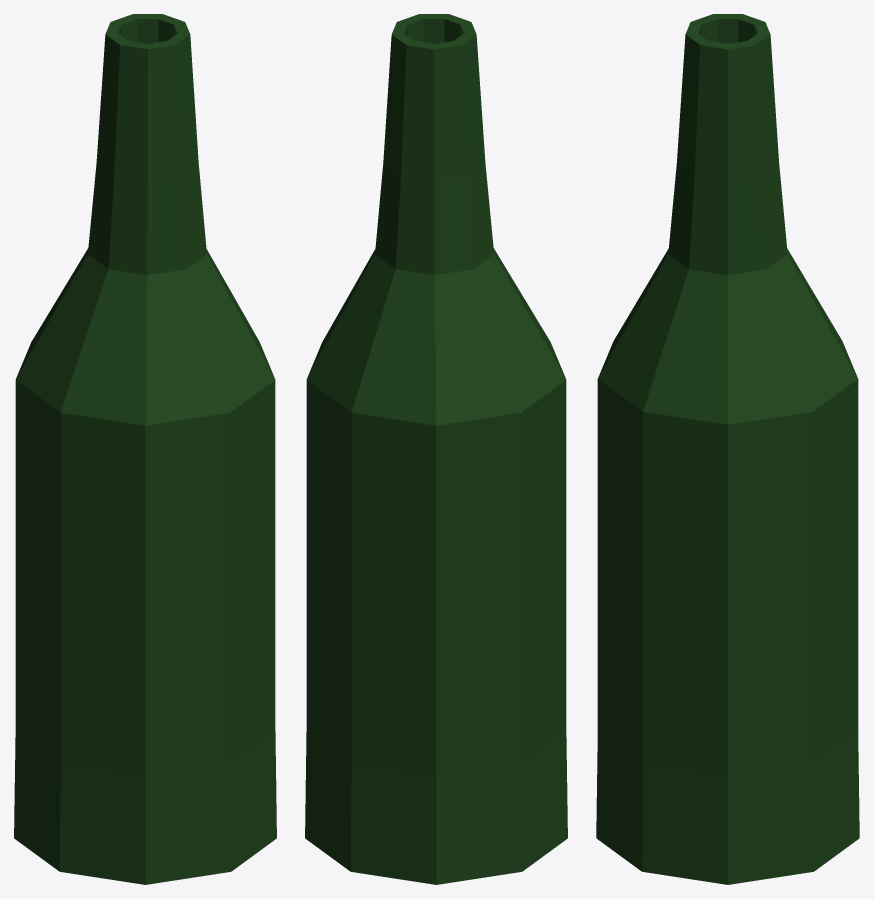
Rendered from Flasche.fbx.
3 renders of one model, left to right at view 1: azimuth 30°, elevation 25°; view 2: azimuth 150°, elevation 25°; view 3: azimuth 270°, elevation 25°, orthographic.
Visible parts, largest first — view 1: Flasche; view 2: Flasche; view 3: Flasche.
Part boxes in pixels (<box>): Flasche: <box>14,14,276,884</box>; Flasche: <box>305,14,567,884</box>; Flasche: <box>596,14,859,884</box>.
Bounding box in the file's own units: 38.79 × 132 × 39.39.
